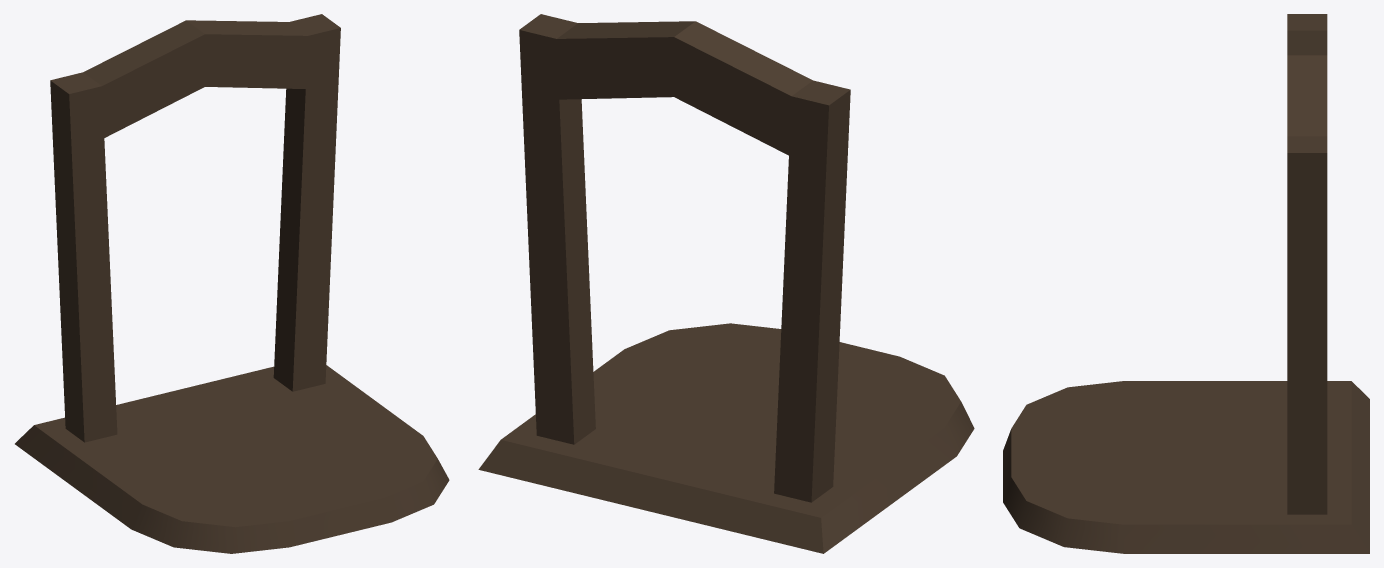
File: chair.fbx
3 views of the same model, side by side, from view 1: azimuth 30°, elevation 25°; view 2: azimuth 150°, elevation 25°; view 3: azimuth 270°, elevation 25° (orthographic). The views are drawn at different scales.
Parts seen in each view (by area): view 1: Plane.040; view 2: Plane.040; view 3: Plane.040.
Part boxes in pixels (x1,y1,x2,y2): Plane.040: (15, 14, 449, 553); Plane.040: (478, 14, 974, 553); Plane.040: (1003, 14, 1369, 553).
Bounding box in the file's own units: 216 × 273 × 216.
